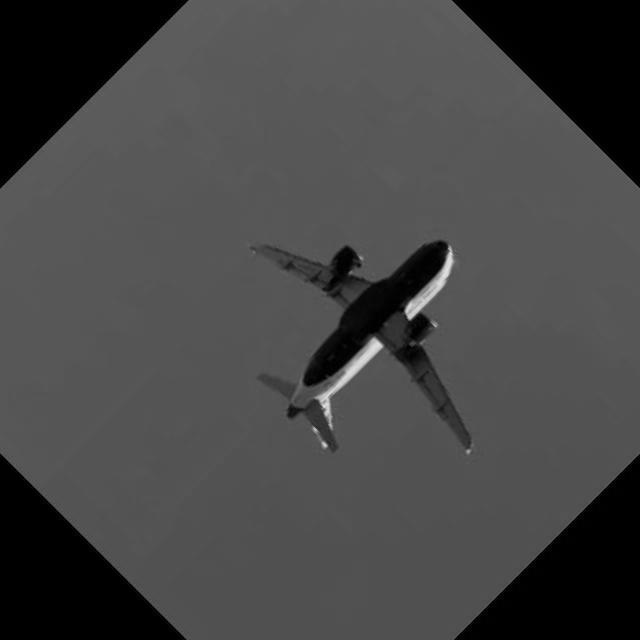aeroplane: (186, 149, 565, 528)
